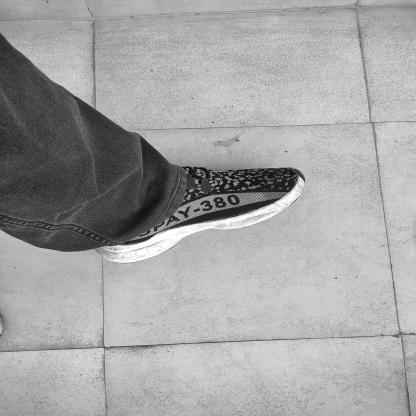ankle: (141, 214, 150, 219)
heel: (101, 251, 105, 255)
left_foot: (96, 169, 307, 264)
pinky: (273, 170, 278, 173)
toe: (291, 179, 298, 183)
